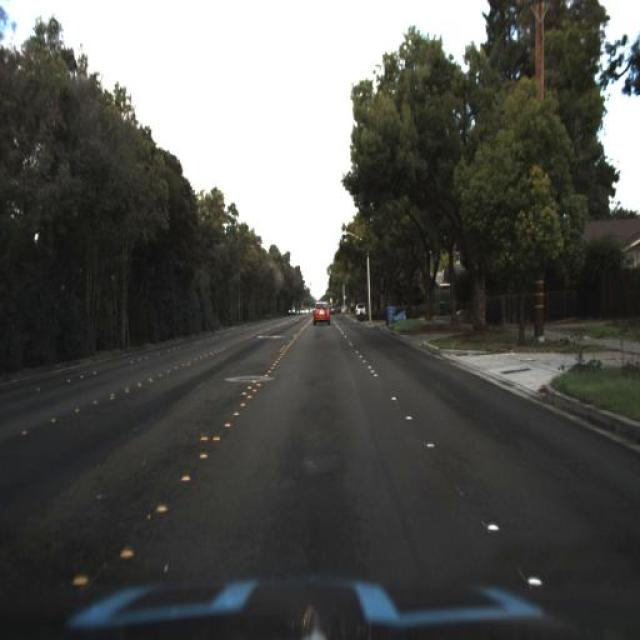car: (310, 293, 334, 331)
